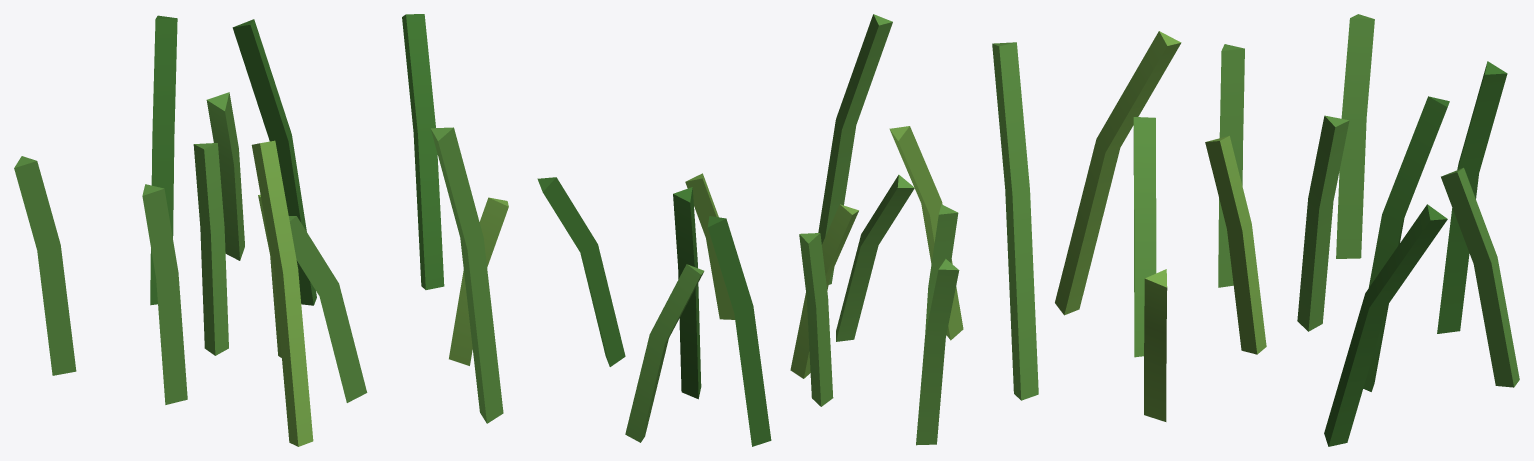
Rendered from grass_clump.glb.
3 renders of one model, left to right at view 1: azimuth 30°, elevation 25°; view 2: azimuth 150°, elevation 25°; view 3: azimuth 270°, elevation 25°, orthographic. The views are drawn at different scales.
Parts seen in each view (by area): view 1: grass_clump; view 2: grass_clump; view 3: grass_clump.
Part boxes in pixels (bbox=[...]): grass_clump: bbox=[14, 14, 508, 446]; grass_clump: bbox=[537, 14, 963, 446]; grass_clump: bbox=[992, 14, 1519, 446].
Size of the model in its own units: 0.6576 by 0.4416 by 0.6435.
